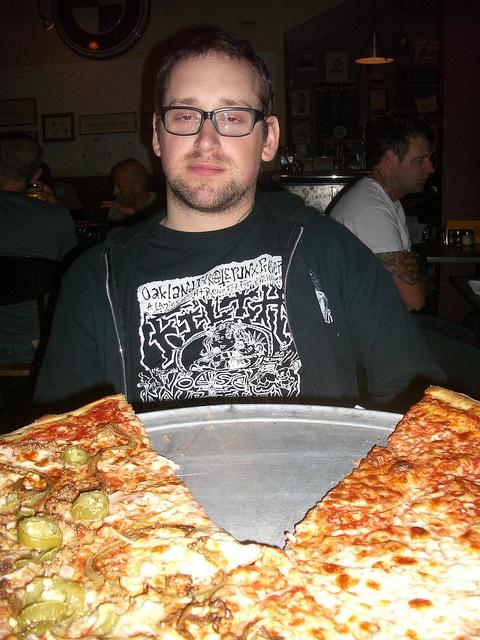hot pepper: (0, 385, 480, 640), (19, 600, 66, 632)
